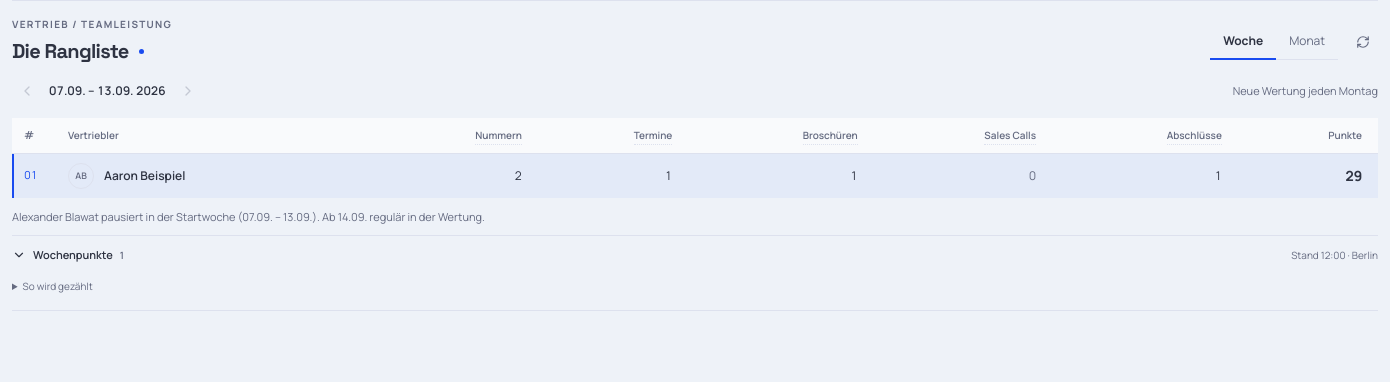
Test: sales ranking › retains the last valid report with an explicit warning if refresh fails
Expected: the text "Aaron Beispiel" is shown, [104,166,185,184]
Click the button named "Rangliste aktualisieren".
click(1363, 42)  # box [1348,26,1378,56]
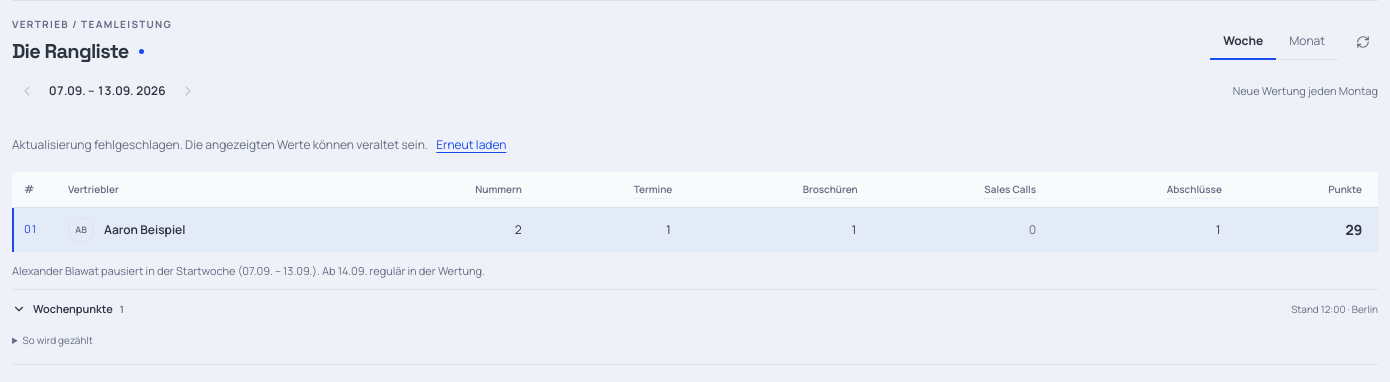
Expected: the text "29" is shown, [1345,220,1362,239]
Expected: the message is shown, [12,136,512,154]
